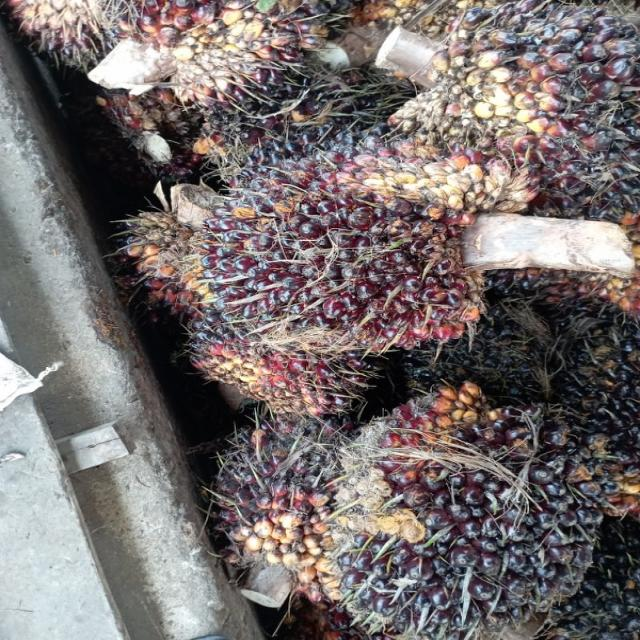fraksi 00: (320, 397, 622, 639)
fraksi 1: (187, 122, 541, 344), (429, 1, 640, 171)
